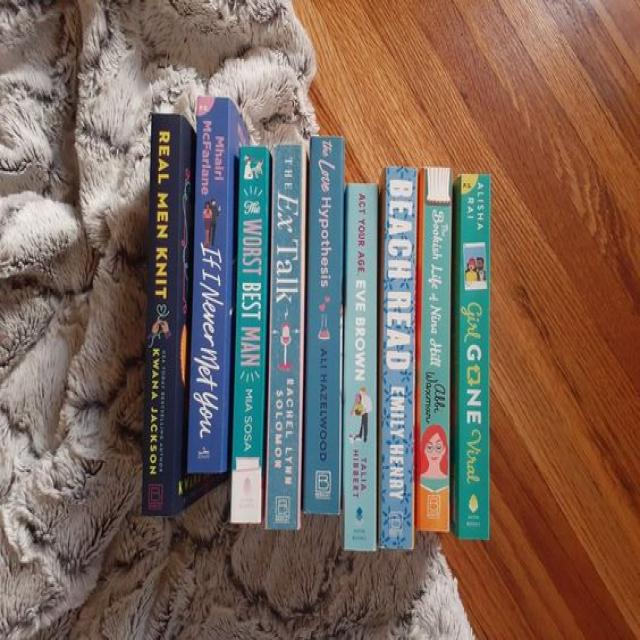book: (188, 95, 230, 471), (143, 114, 182, 516), (303, 135, 344, 514), (380, 166, 419, 548), (266, 144, 304, 529), (230, 148, 268, 525), (419, 166, 453, 531), (346, 184, 378, 550), (460, 174, 491, 538)
